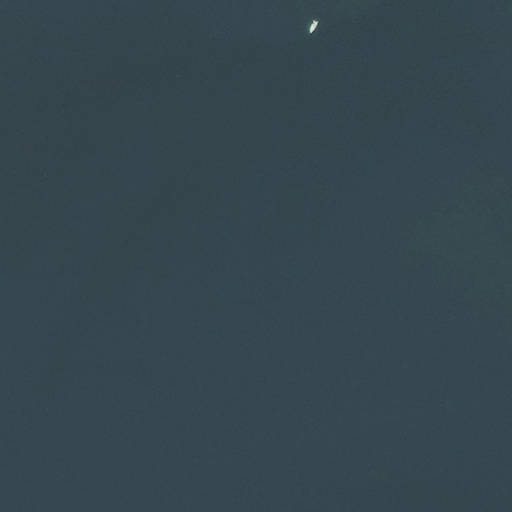ship: (306, 15, 321, 37)
